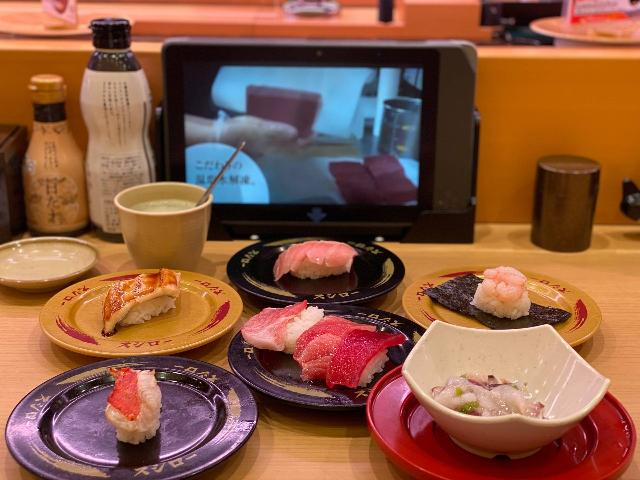janback: (171, 359, 255, 473), (10, 389, 101, 480), (238, 276, 403, 301), (237, 382, 353, 416), (92, 442, 184, 480), (387, 308, 418, 367), (33, 368, 108, 391), (232, 245, 277, 277), (363, 243, 407, 274)
jangold: (38, 286, 104, 358), (550, 278, 611, 351), (185, 277, 245, 344), (100, 324, 203, 349), (403, 300, 470, 337), (87, 269, 169, 281)
